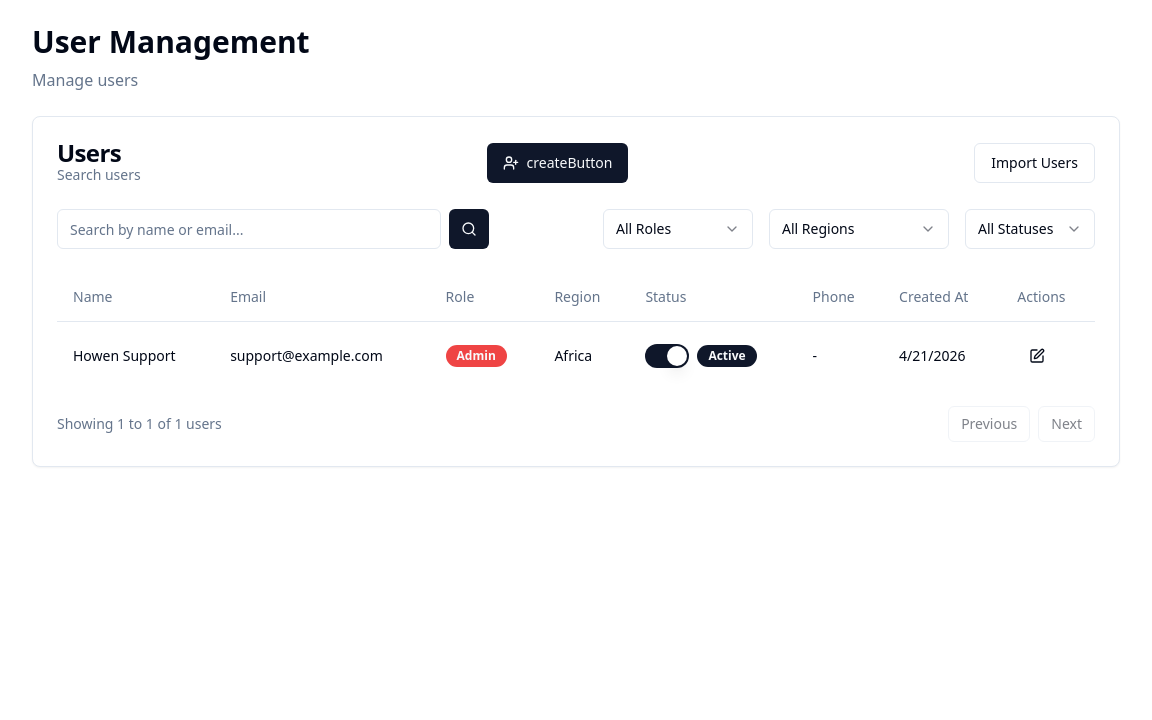
Scenario: admin users page › opens the edit dialog when the user row is clicked
Click the text "Howen Support" at (136, 355), box [57,321,214,390]
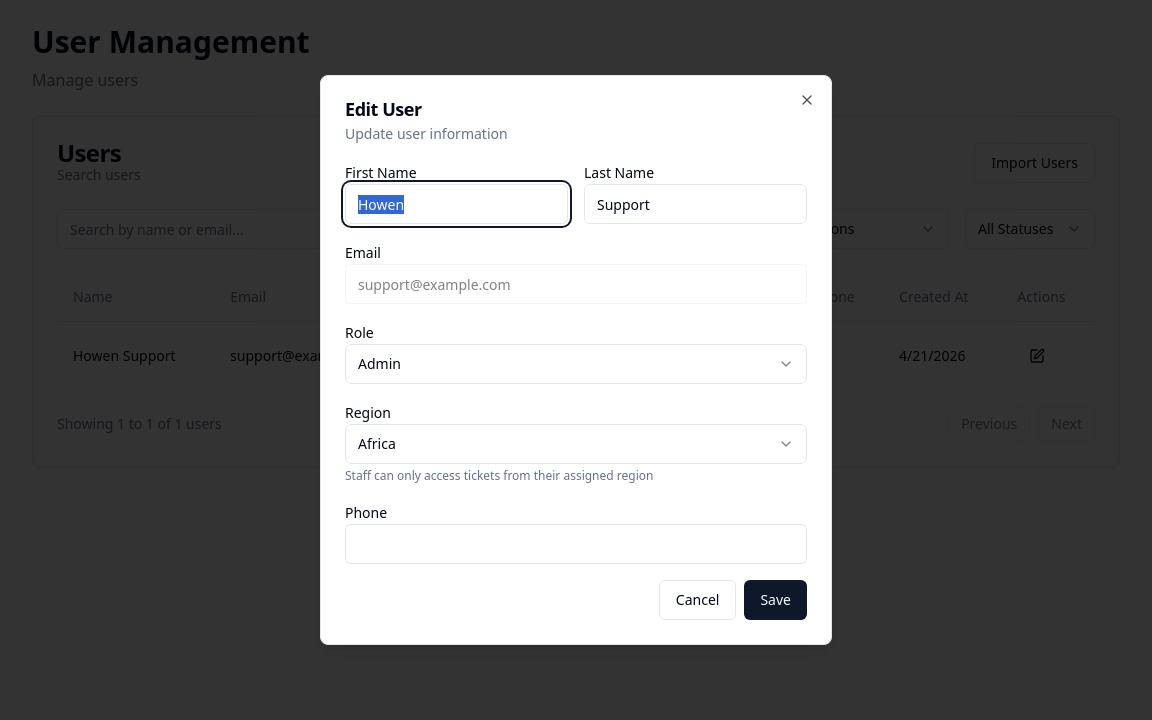
expect the heading "Edit User" is shown: met, box [345,97,422,121]
expect the 3rd field showing "support@example.com" is shown: met, box [345,264,807,304]
